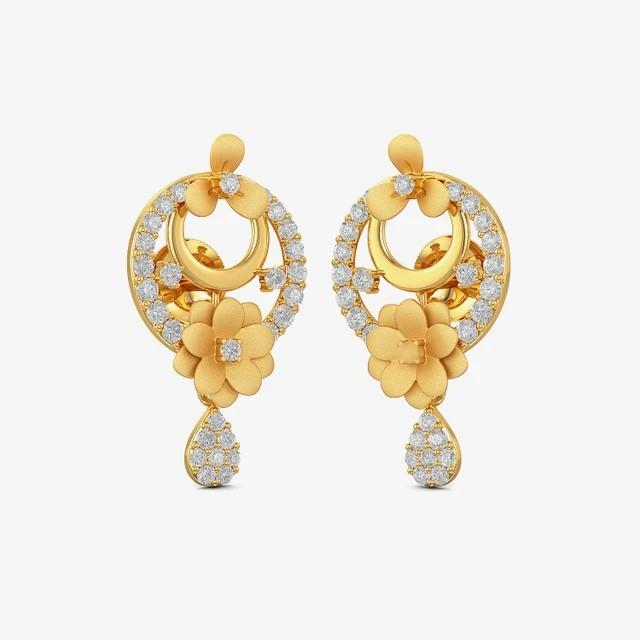missing gem: (399, 341, 419, 364)
